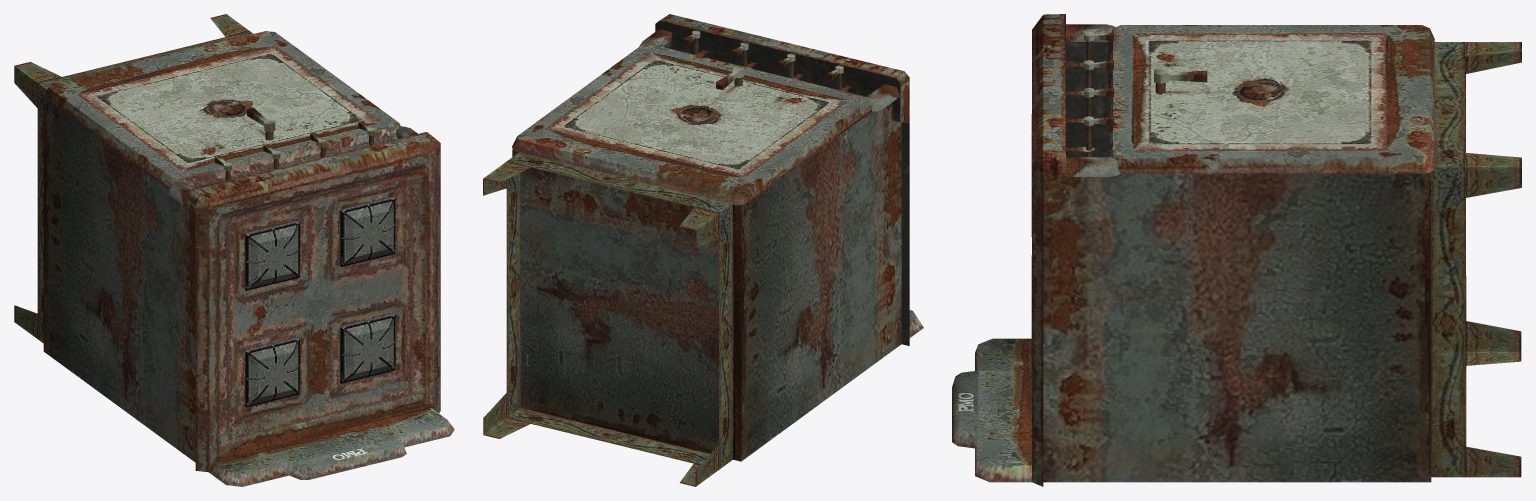
Rendered from prop_stove01c.glb.
3 renders of one model, left to right at view 1: azimuth 30°, elevation 25°; view 2: azimuth 150°, elevation 25°; view 3: azimuth 270°, elevation 25°, orthographic. The views are drawn at different scales.
Bounding box in the file's own units: 30 × 33.19 × 49.95.
Materials: 1 (1 with a texture image).
